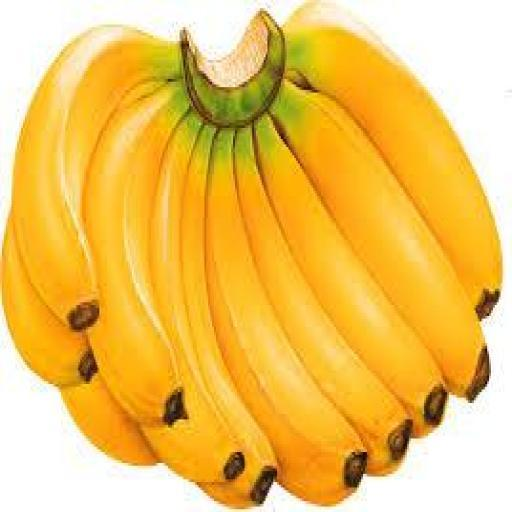banana: (285, 0, 502, 318), (272, 82, 489, 400), (235, 126, 412, 473), (256, 118, 447, 435), (207, 131, 366, 503), (12, 28, 181, 329), (151, 112, 275, 503), (83, 79, 191, 427)
